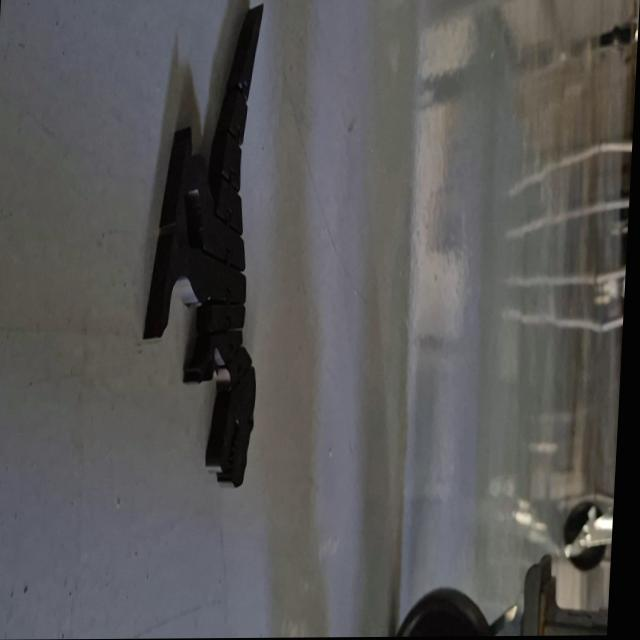dino: (132, 1, 275, 490)
